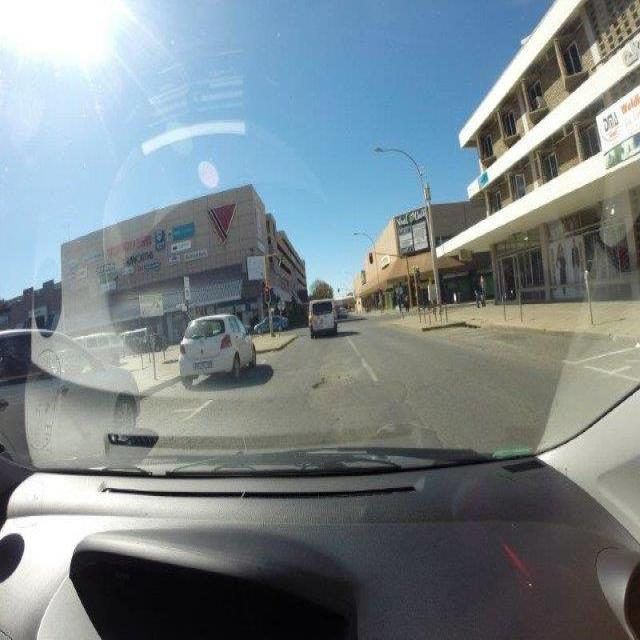lubang: (304, 366, 364, 392)
